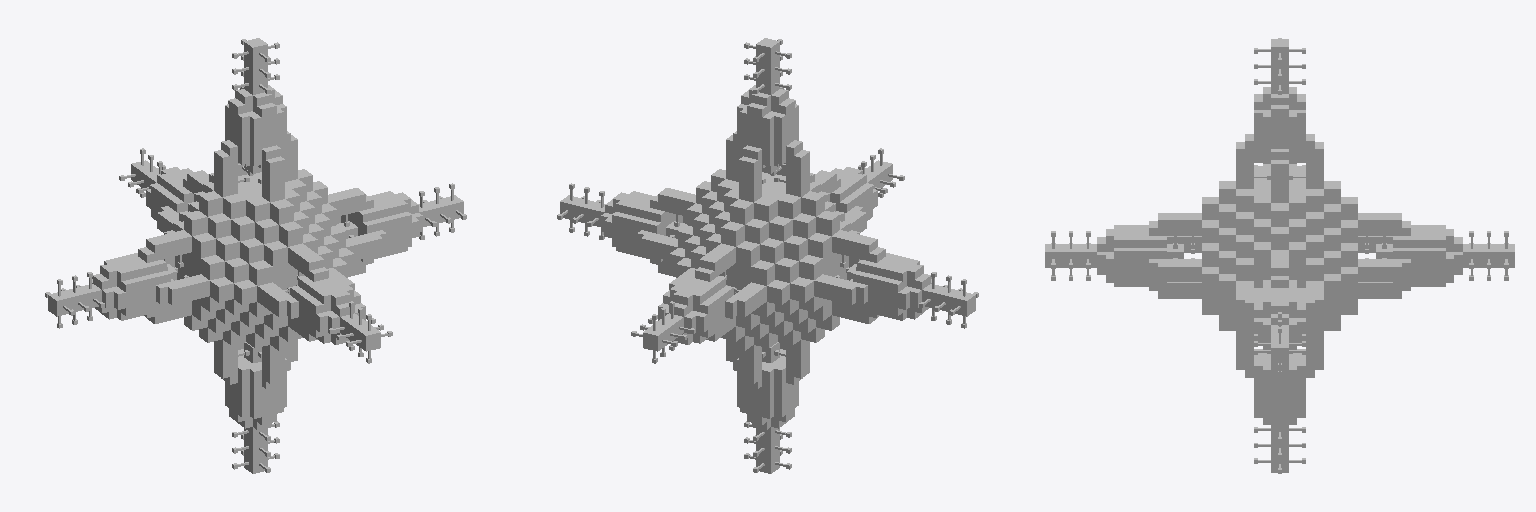
The model's file is stfr.obj.
3 renders of one model, left to right at view 1: azimuth 30°, elevation 25°; view 2: azimuth 150°, elevation 25°; view 3: azimuth 270°, elevation 25°, orthographic.
Visible parts, largest first — view 1: 14; view 2: 14; view 3: 14.
Boxes of the visible parts, x1,y1,x2,y2 form: 14: [45, 38, 466, 473]; 14: [557, 38, 978, 473]; 14: [1045, 38, 1514, 473].
Bounding box in the file's own units: 27 × 27 × 27.